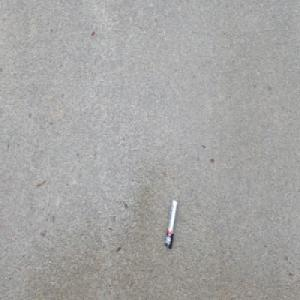Battery: (163, 197, 177, 251)
